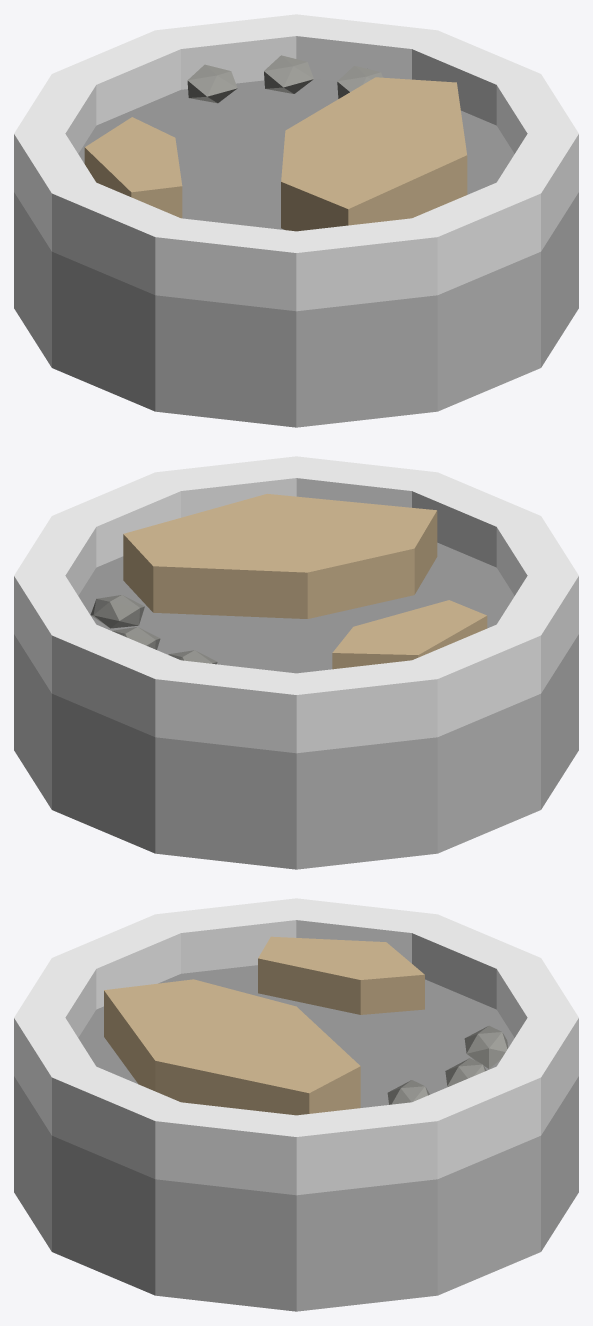
The model's file is vfem2_stone_polisher.obj.
3 views of the same model, one above another, from view 1: azimuth 30°, elevation 25°; view 2: azimuth 150°, elevation 25°; view 3: azimuth 270°, elevation 25° (orthographic).
Visible parts, largest first — view 1: vfem2_stone_polisher; view 2: vfem2_stone_polisher; view 3: vfem2_stone_polisher.
Part boxes in pixels (x1,y1,x2,y2): vfem2_stone_polisher: [14, 14, 578, 427]; vfem2_stone_polisher: [14, 456, 578, 869]; vfem2_stone_polisher: [14, 898, 578, 1311].
Size of the model in its own units: 0.88 by 0.31 by 0.88.
